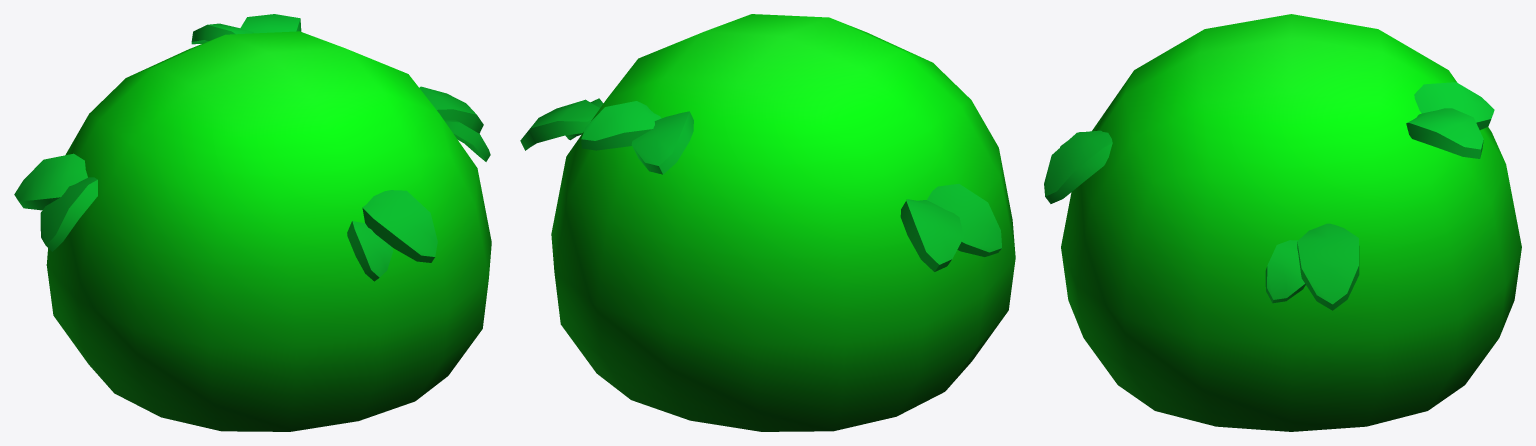
Rendered from Plant_Bush_01.fbx.
3 renders of one model, left to right at view 1: azimuth 30°, elevation 25°; view 2: azimuth 150°, elevation 25°; view 3: azimuth 270°, elevation 25°, orthographic. The views are drawn at different scales.
Parts seen in each view (by area): view 1: Plant_Bush_01; view 2: Plant_Bush_01; view 3: Plant_Bush_01.
Part boxes in pixels (x1,y1,x2,y2): Plant_Bush_01: (14,14,491,431); Plant_Bush_01: (520,14,1015,431); Plant_Bush_01: (1044,14,1521,431).
Bounding box in the file's own units: 139 × 89.58 × 123.
